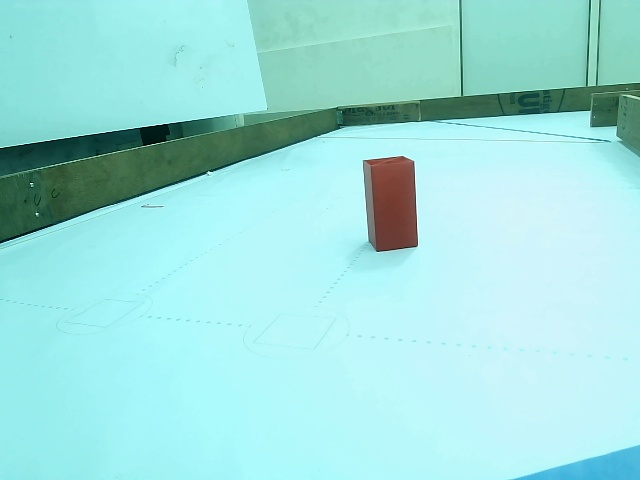red: (367, 159, 418, 247)
